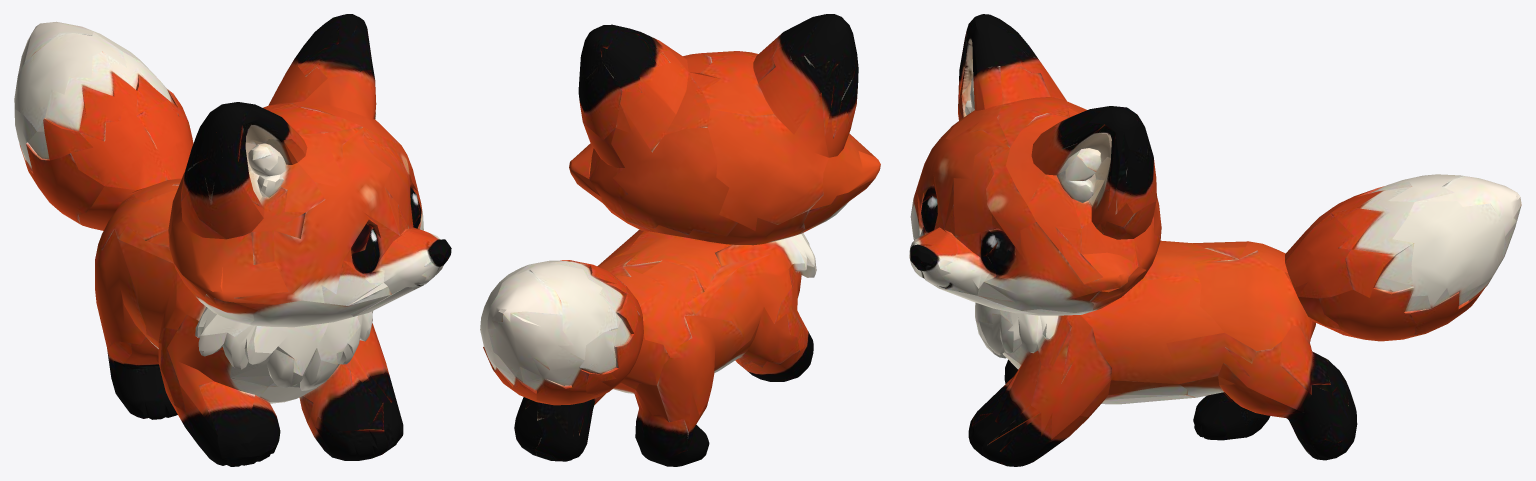
Rendered from sne-raev.glb.
The picture shows the model from 3 angles, left to right: view 1: azimuth 30°, elevation 25°; view 2: azimuth 150°, elevation 25°; view 3: azimuth 270°, elevation 25°; orthographic projection. The views are drawn at different scales.
Bounding box in the file's own units: 0.9064 × 1.35 × 1.9.
Materials: 1 (1 with a texture image).
